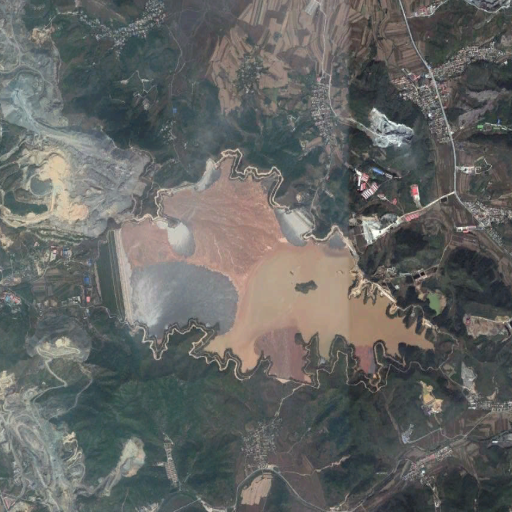tp: (95, 150, 451, 388)
